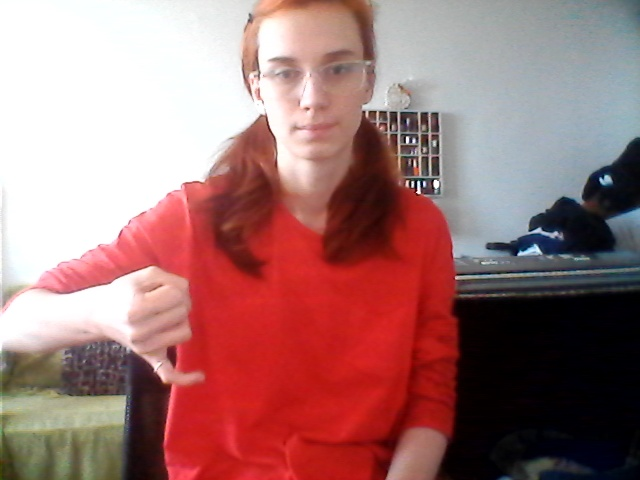j: (101, 255, 230, 403)
